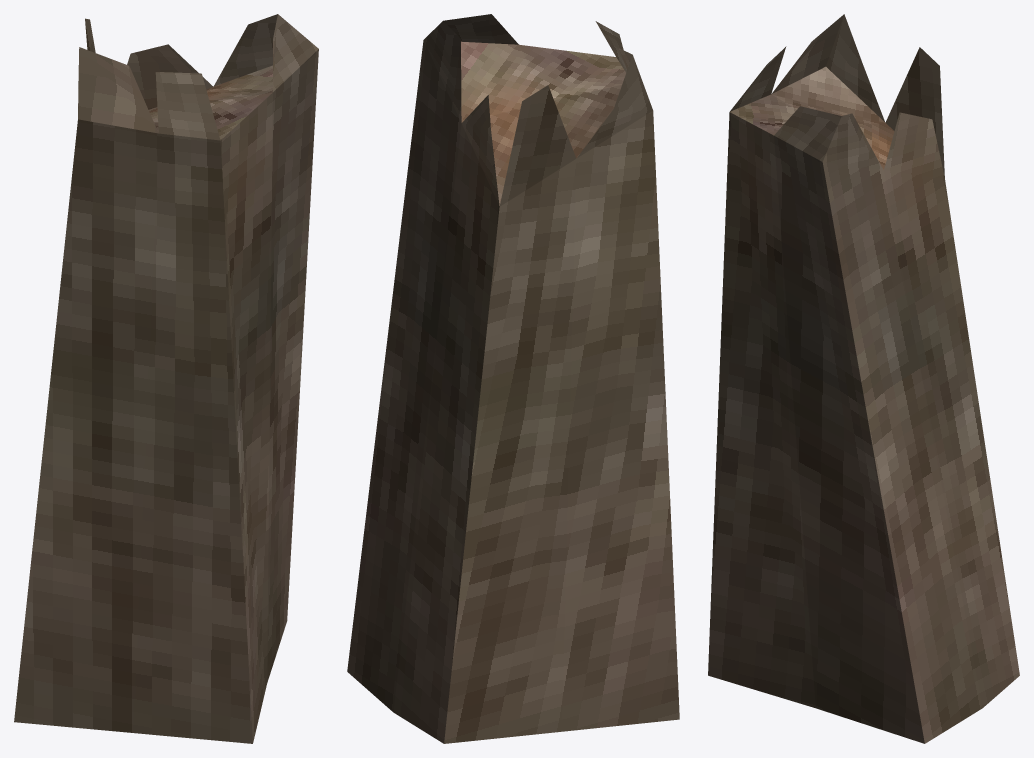
The model's file is wooden_fence_pole_broken_small.glb.
3 views of the same model, side by side, from view 1: azimuth 30°, elevation 25°; view 2: azimuth 150°, elevation 25°; view 3: azimuth 270°, elevation 25° (orthographic). The views are drawn at different scales.
Visible parts, largest first — view 1: wooden_fence_pole_broken_small; view 2: wooden_fence_pole_broken_small; view 3: wooden_fence_pole_broken_small.
Boxes of the visible parts, bbox=[...] form: wooden_fence_pole_broken_small: bbox=[14, 14, 318, 743]; wooden_fence_pole_broken_small: bbox=[347, 14, 679, 743]; wooden_fence_pole_broken_small: bbox=[708, 14, 1019, 743].
Size of the model in its own units: 0.2193 by 0.4535 by 0.208.
Materials: 1 (1 with a texture image).
